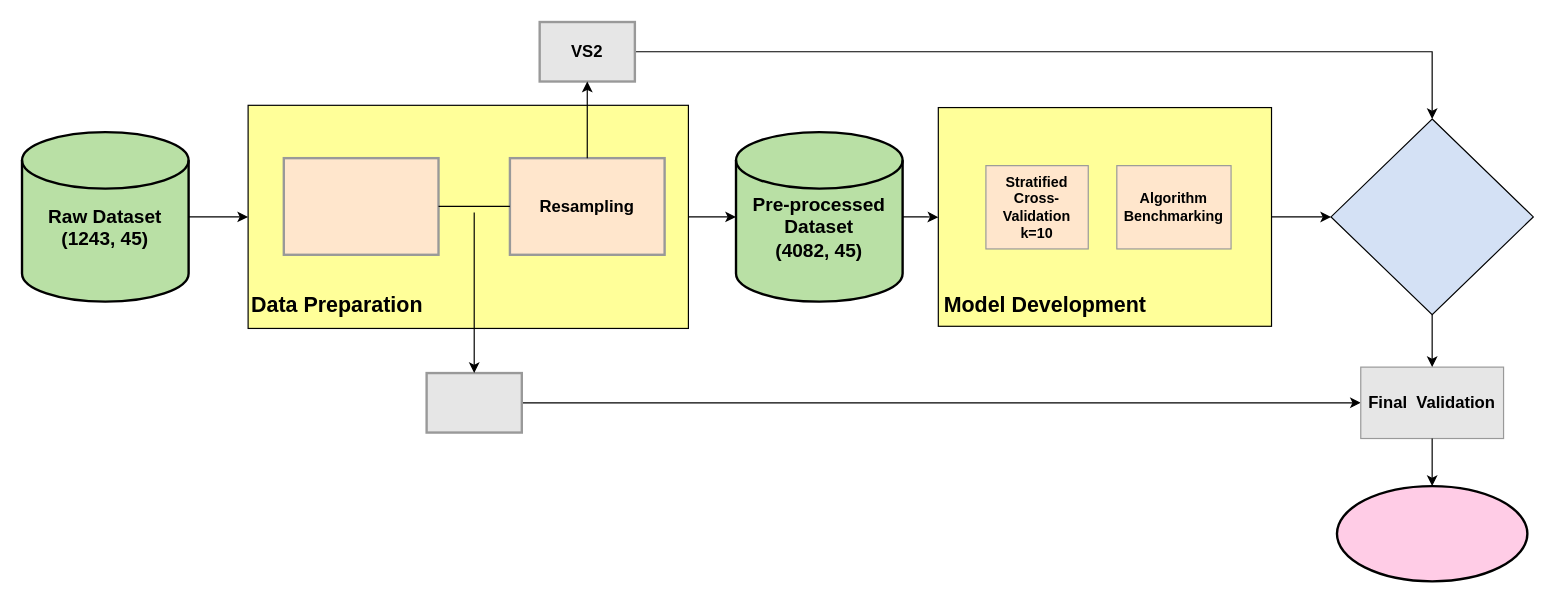
Some shapes in this 1554 by 602 pixel diagram are drawn without their labels. The box of each missing label's shape, as (x1, y1, x2, y2) in pixels:
Data Transformation: (282, 156, 439, 255)
Model evaluation and Tuning: (1330, 118, 1533, 315)
Proof-of-work: (1335, 484, 1528, 582)
VS1: (425, 371, 522, 433)
